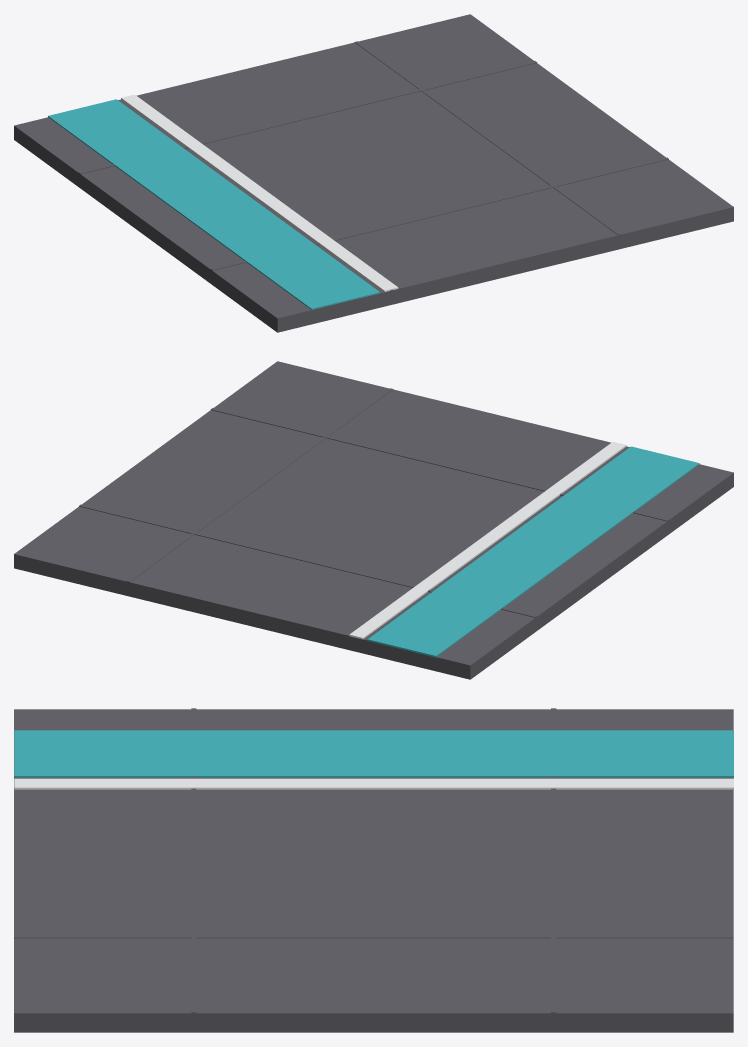
The model's file is tattoo-and-piercing-studio-studio-floor-tile-dark-0e1db7b4__34563.glb.
3 renders of one model, top to bottom at view 1: azimuth 30°, elevation 25°; view 2: azimuth 150°, elevation 25°; view 3: azimuth 270°, elevation 25°, orthographic. The views are drawn at different scales.
Parts seen in each view (by area): view 1: studio-floor-tile-dark; view 2: studio-floor-tile-dark; view 3: studio-floor-tile-dark.
Part boxes in pixels (x1,y1,x2,y2): studio-floor-tile-dark: (14,14,733,332); studio-floor-tile-dark: (14,361,733,679); studio-floor-tile-dark: (14,708,733,1032).
Bounding box in the file's own units: 2 × 0.066 × 2.
